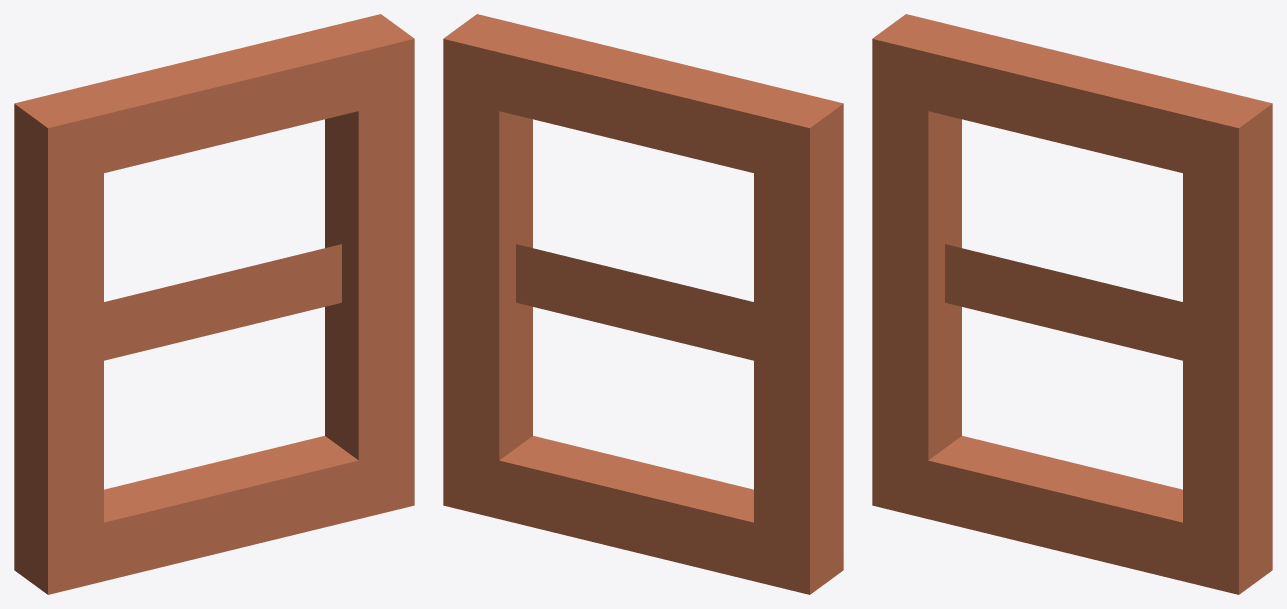
The model's file is window-brown-detailed.obj.
3 views of the same model, side by side, from view 1: azimuth 30°, elevation 25°; view 2: azimuth 150°, elevation 25°; view 3: azimuth 330°, elevation 25° (orthographic).
Size of the model in its own units: 0.3125 by 0.38 by 0.05.
